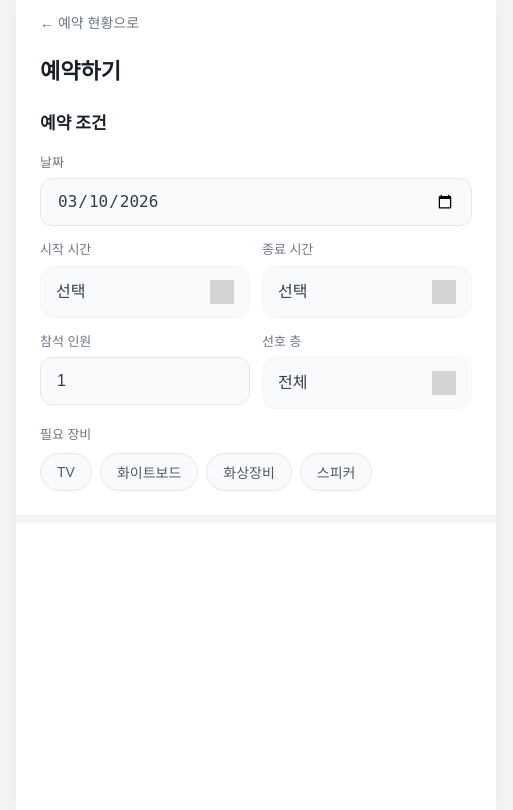
예약하기 페이지 › 회의실을 선택하지 않고 예약하면 에러 메시지가 표시된다
expect the text "예약 조건" is shown: met, box x1=40 y1=111 x2=107 y2=136
Select "11:30" in the dropdown named "시작 시간". click: (145, 292)
box: x1=40 y1=266 x2=250 y2=318
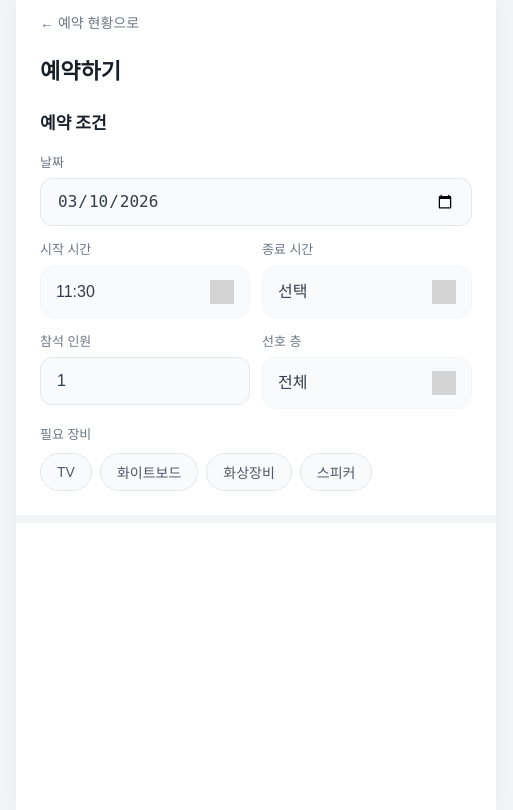
Select "12:30" in the dropdown named "종료 시간". click: (367, 292)
box: x1=262 y1=266 x2=472 y2=318
(page scrolled)
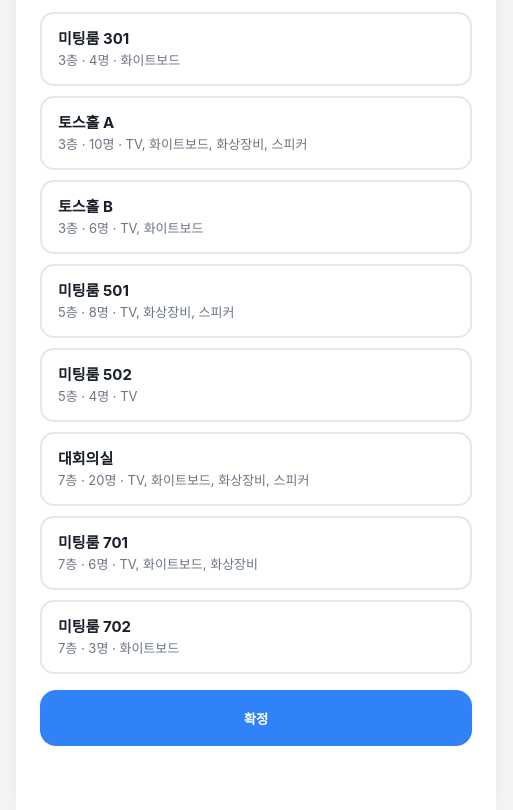
Click the button "확정". click: (256, 718)
box: x1=40 y1=690 x2=472 y2=746
(page scrolled)
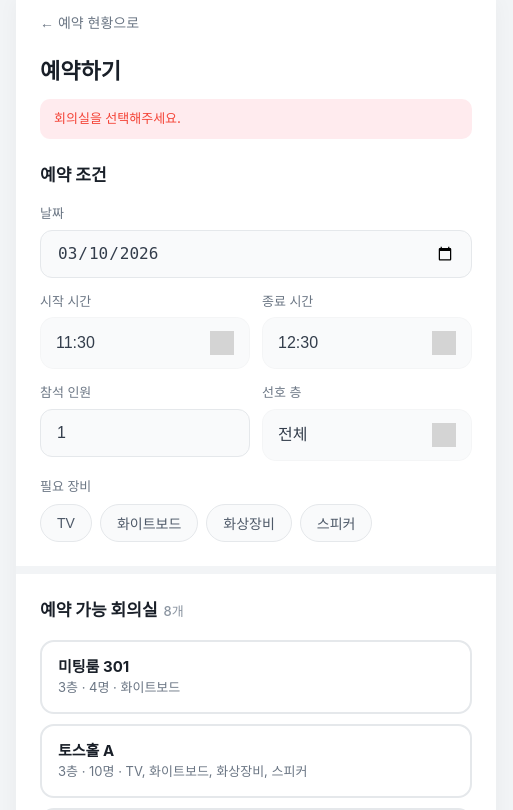
expect the text "회의실을 선택해주세요." is shown: met, box x1=54 y1=109 x2=181 y2=128
